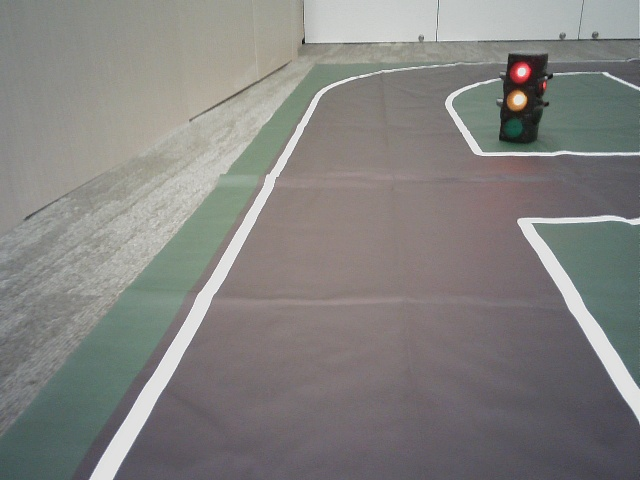red: (502, 58, 531, 141)
